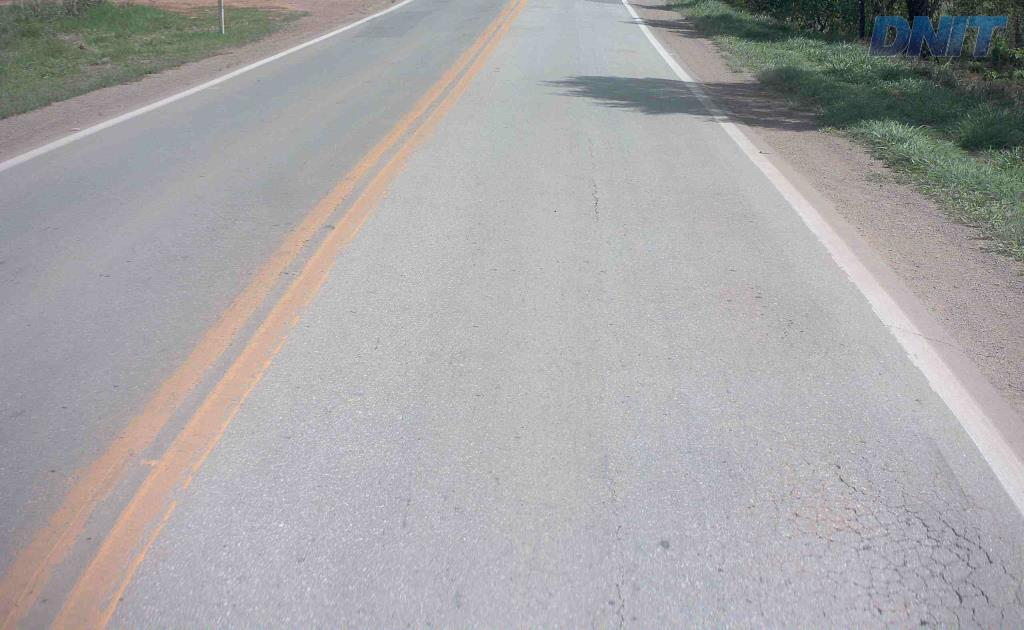crack: (890, 479, 995, 629)
